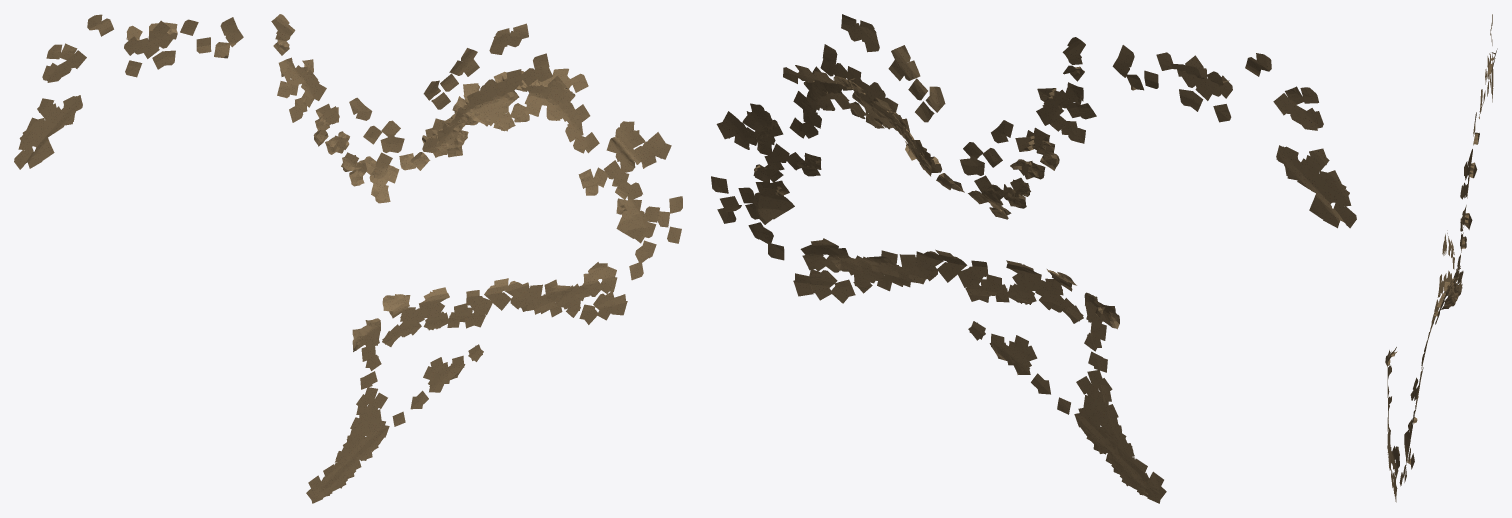
The picture shows the model from 3 angles, left to right: view 1: azimuth 30°, elevation 25°; view 2: azimuth 150°, elevation 25°; view 3: azimuth 270°, elevation 25°; orthographic projection. The views are drawn at different scales.
Bounding box in the file's own units: 226 × 168 × 43.58.
1 material, 1 textured.
